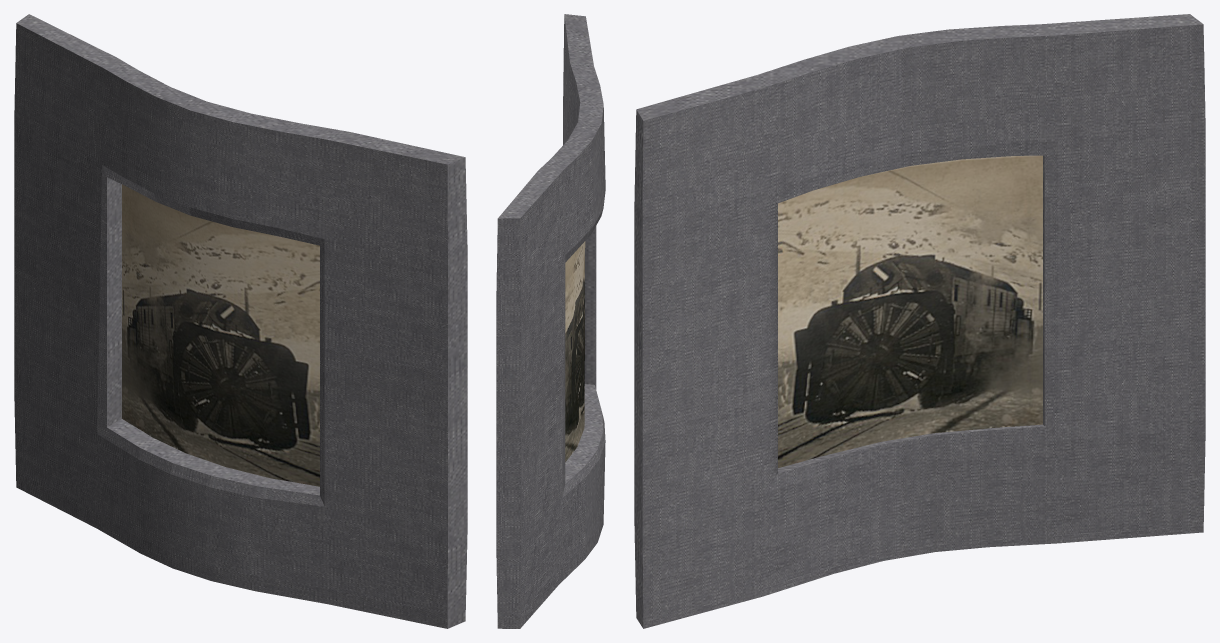
File: xiangkuang.fbx
3 views of the same model, side by side, from view 1: azimuth 30°, elevation 25°; view 2: azimuth 150°, elevation 25°; view 3: azimuth 270°, elevation 25° (orthographic). The views are drawn at different scales.
Visible parts, largest first — view 1: xiangkuang; view 2: xiangkuang; view 3: xiangkuang.
Part boxes in pixels (bbox=[...]): xiangkuang: bbox=[14, 14, 467, 628]; xiangkuang: bbox=[496, 14, 605, 628]; xiangkuang: bbox=[634, 14, 1205, 628].
Bounding box in the file's own units: 9.96 × 21.77 × 22.17.
